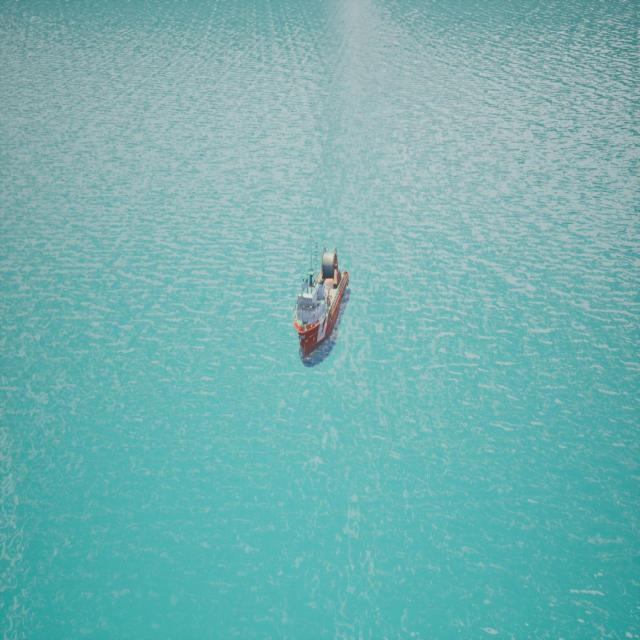tug boat: (294, 250, 350, 369)
